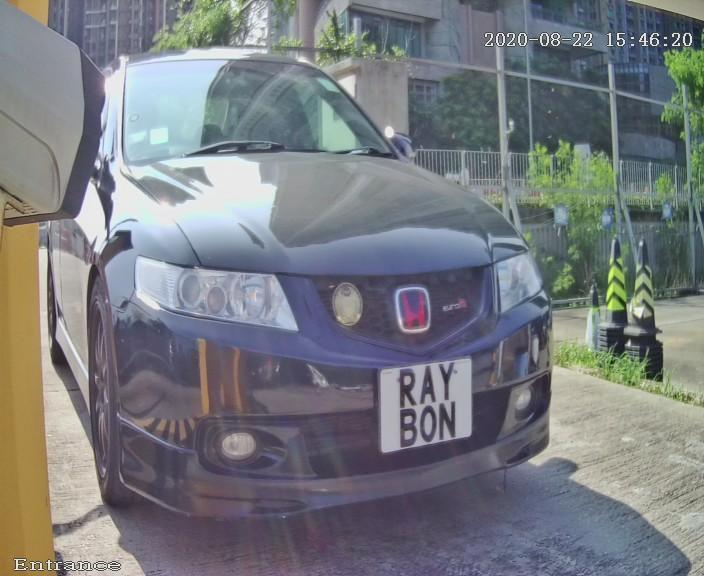Car: (35, 6, 595, 559)
License Plate: (371, 343, 478, 458)
